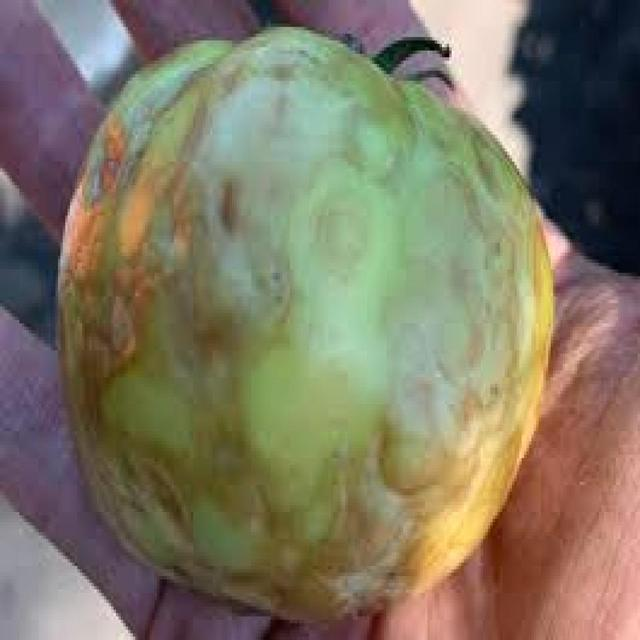Spotted wilt Virus Fruit: (68, 0, 126, 91)
